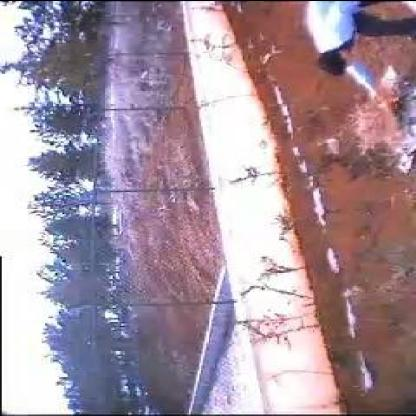foggia-v2-map80-epoch100 - v1 4323: (350, 98, 398, 148)
